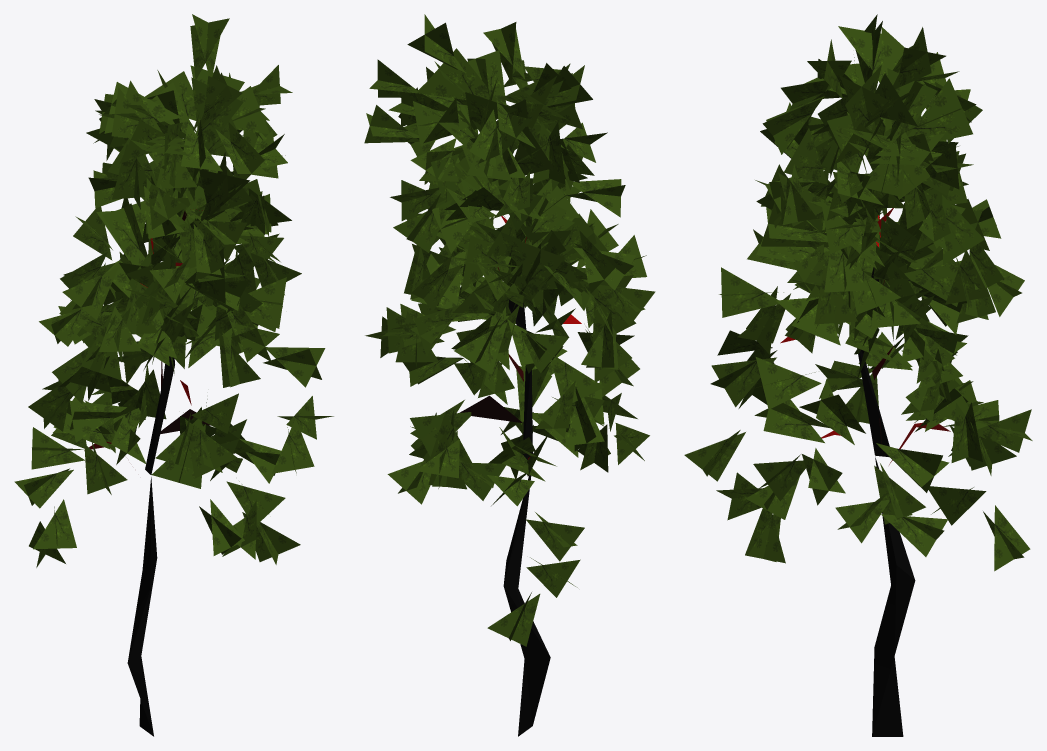
The model's file is birch 4 lod4.FBX.
The picture shows the model from 3 angles, left to right: view 1: azimuth 30°, elevation 25°; view 2: azimuth 150°, elevation 25°; view 3: azimuth 270°, elevation 25°; orthographic projection. The views are drawn at different scales.
Visible parts, largest first — view 1: birch4_LOD4; view 2: birch4_LOD4; view 3: birch4_LOD4.
Part boxes in pixels (box(x1,y1,x2,y2)): birch4_LOD4: box(14, 14, 333, 736); birch4_LOD4: box(364, 14, 655, 736); birch4_LOD4: box(684, 14, 1032, 736).
Bounding box in the file's own units: 72680 × 177351 × 75497.
